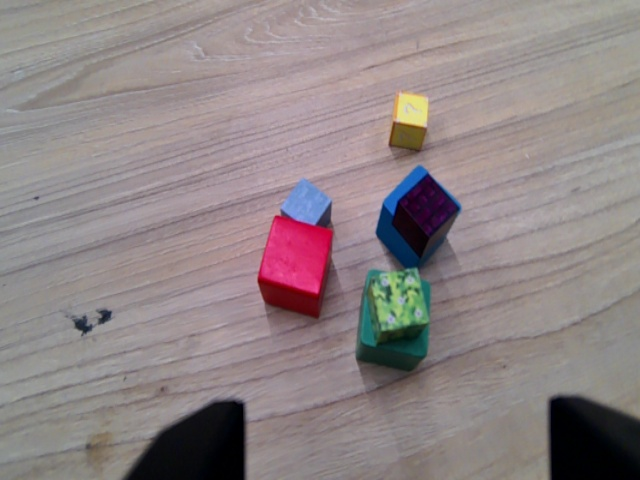brick: (393, 175, 461, 261)
grass: (367, 265, 434, 348)
lucky: (387, 86, 432, 153)
stone: (276, 172, 337, 233)
